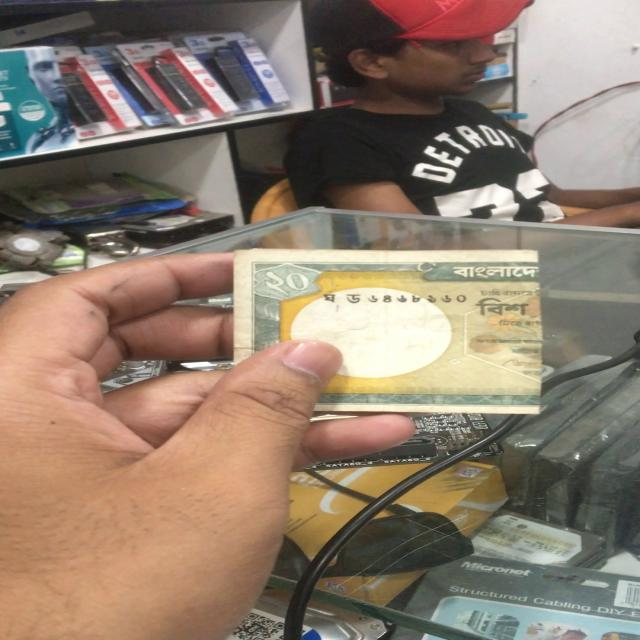Taka: (256, 256, 551, 418)
